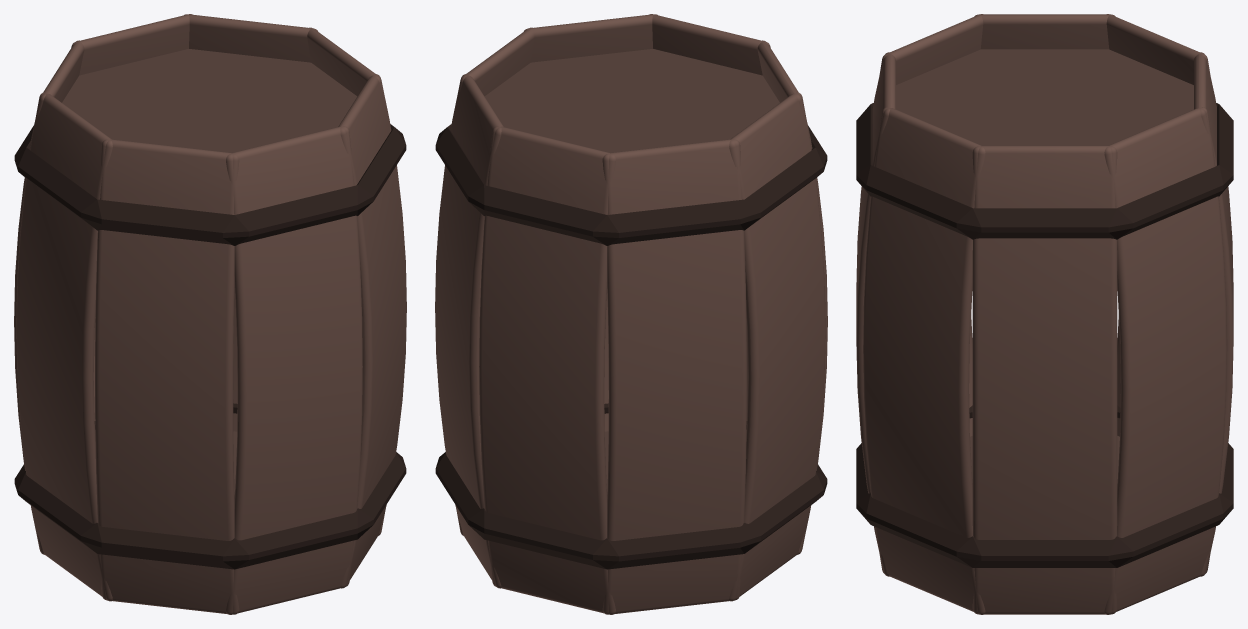
Rendered from Barrel.fbx.
The picture shows the model from 3 angles, left to right: view 1: azimuth 30°, elevation 25°; view 2: azimuth 150°, elevation 25°; view 3: azimuth 270°, elevation 25°; orthographic projection.
Visible parts, largest first — view 1: Plane, Circle, Circle.001; view 2: Plane, Circle, Circle.001; view 3: Plane, Circle, Circle.001.
Boxes of the visible parts, x1,y1,x2,y2 form: Plane: (14, 14, 406, 614); Circle: (14, 124, 406, 569); Circle.001: (62, 49, 357, 494); Plane: (435, 14, 827, 614); Circle: (435, 124, 827, 569); Circle.001: (484, 49, 779, 494); Plane: (856, 14, 1233, 614); Circle: (856, 103, 1233, 567); Circle.001: (896, 49, 1193, 482).
Bounding box in the file's own units: 120 × 164 × 120.
